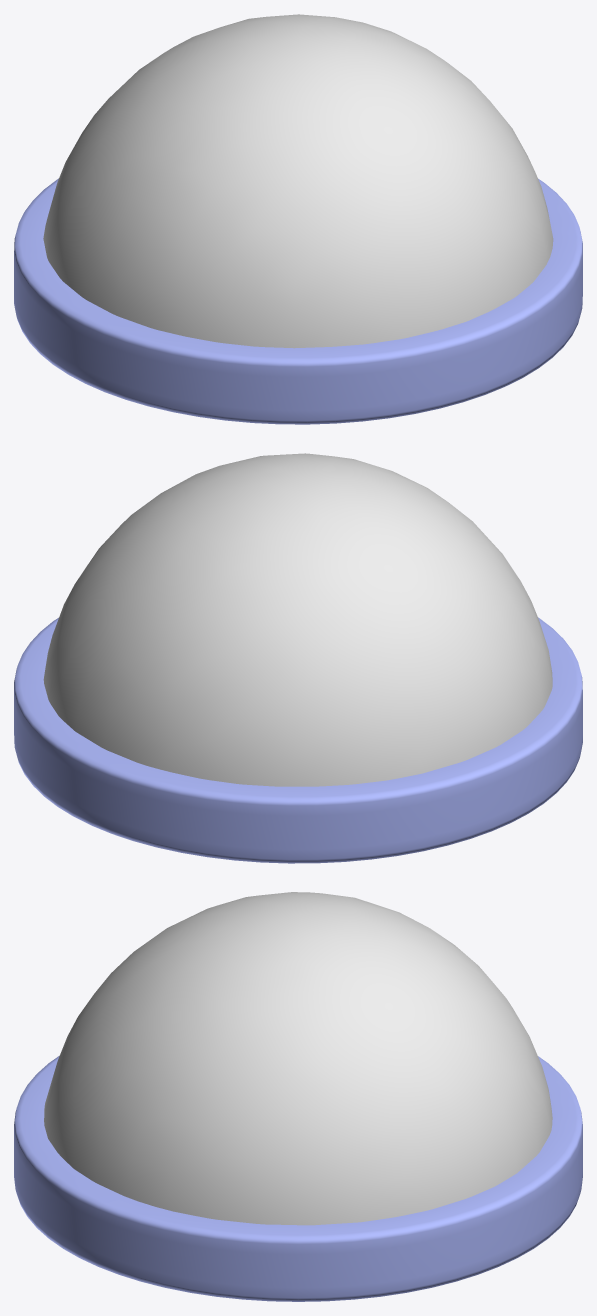
File: wristBubble-optimized.fbx
3 renders of one model, top to bottom at view 1: azimuth 30°, elevation 25°; view 2: azimuth 150°, elevation 25°; view 3: azimuth 270°, elevation 25°, orthographic.
Parts seen in each view (by area): view 1: Sphere, Cylinder; view 2: Sphere, Cylinder; view 3: Sphere, Cylinder.
Part boxes in pixels (x1,y1,x2,y2): Sphere: (43, 14, 553, 348); Cylinder: (14, 178, 582, 424); Sphere: (43, 453, 552, 786); Cylinder: (14, 617, 582, 863); Sphere: (44, 892, 552, 1225); Cylinder: (14, 1056, 582, 1301).
Bounding box in the file's own units: 4.18 × 2.18 × 4.18.
